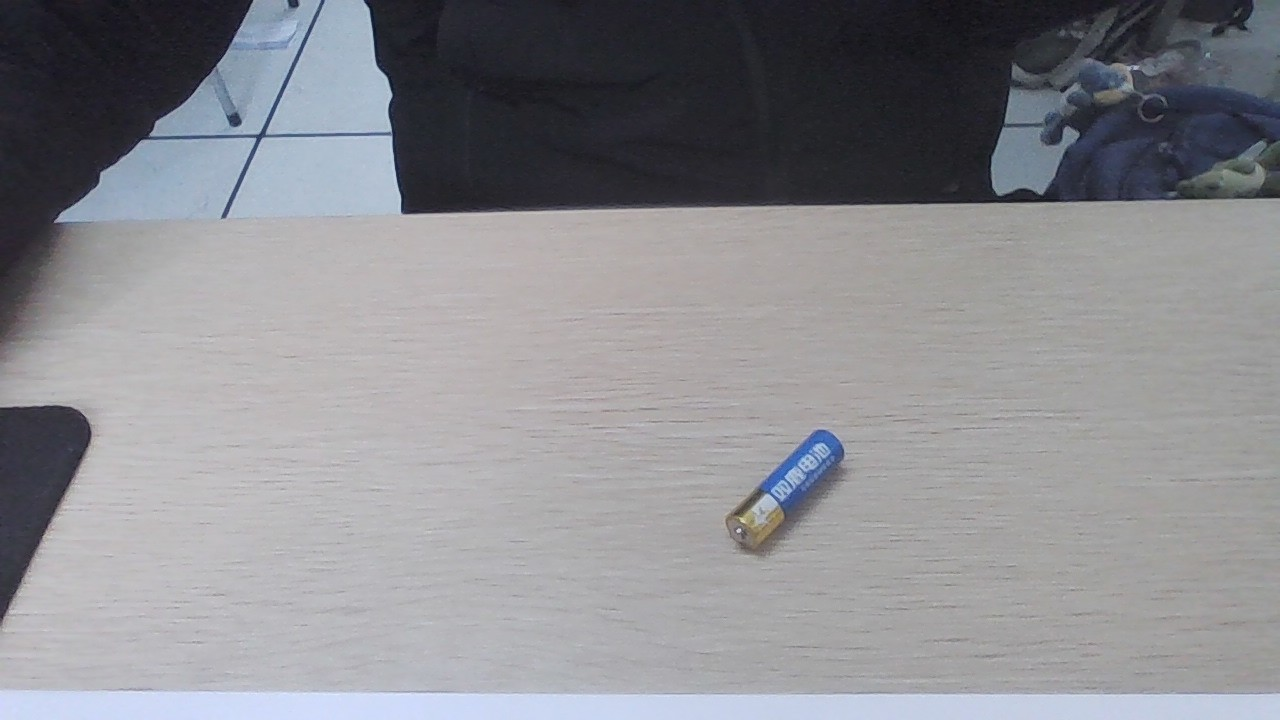YH-battery: (724, 431, 842, 546)
